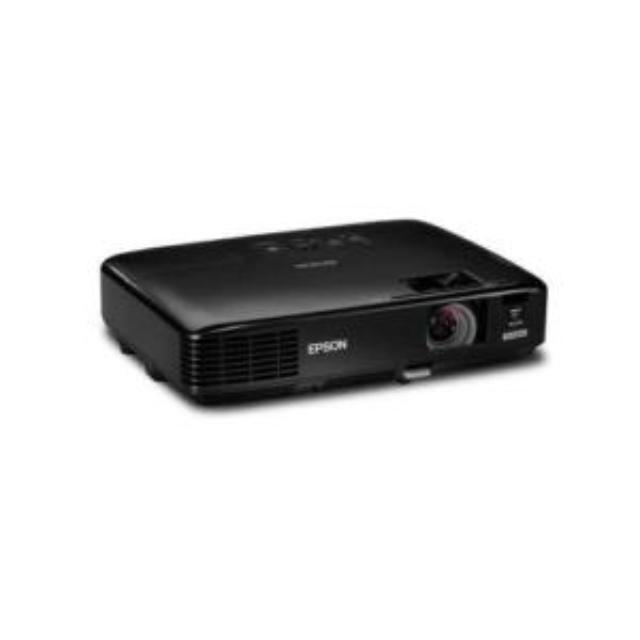Projector: (102, 212, 550, 408)
